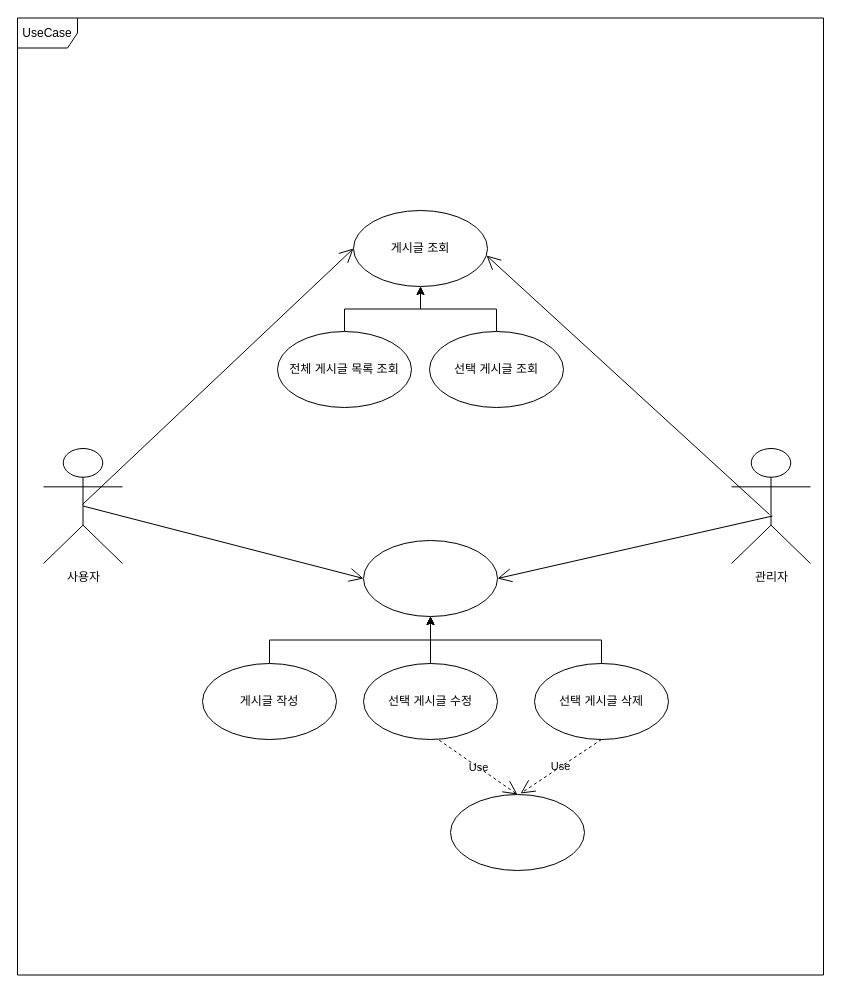
The diagram is 841 pixels wide and 992 high, and some of its shapes have lost their labels. The shapes that lost their labels are listed below. From the top down, each one's centre as x and y in pixels, then its label:
At (x=430, y=578): "게시글 관리".
At (x=517, y=832): "비밀번호 검증".
